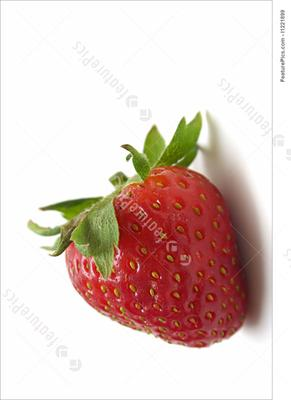strawberry: (0, 0, 291, 400)
